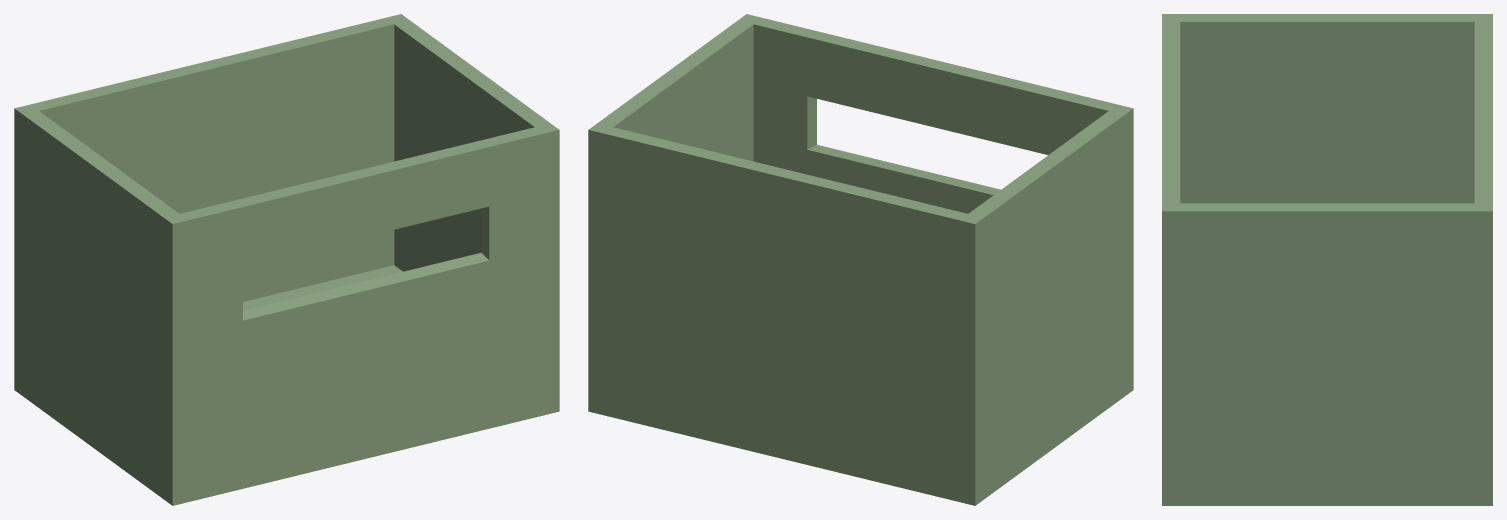
Rendered from Box_Organizer_Big.fbx.
3 renders of one model, left to right at view 1: azimuth 30°, elevation 25°; view 2: azimuth 150°, elevation 25°; view 3: azimuth 270°, elevation 25°, orthographic. The views are drawn at different scales.
Visible parts, largest first — view 1: Box_Organizer_Big; view 2: Box_Organizer_Big; view 3: Box_Organizer_Big.
Boxes of the visible parts, box(x1,y1,x2,y2) form: Box_Organizer_Big: box(14, 14, 559, 505); Box_Organizer_Big: box(588, 14, 1133, 505); Box_Organizer_Big: box(1162, 14, 1492, 505).
Size of the model in its own units: 38.7 by 26.94 by 27.42.
